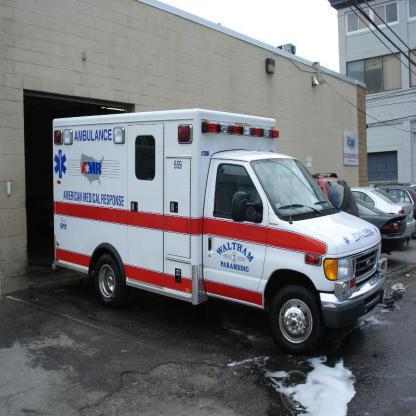Ambulance - v1 Ambulance last generate: (52, 108, 389, 352)
